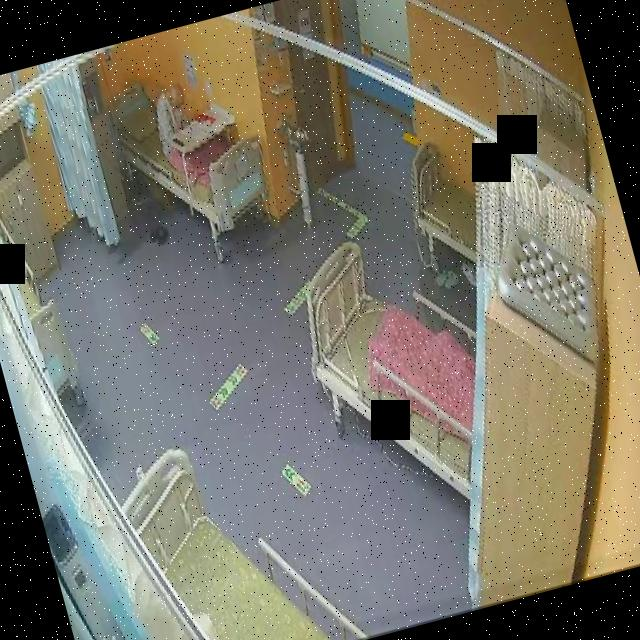bed: (284, 220, 508, 526), (109, 415, 367, 640), (98, 54, 282, 254), (397, 134, 492, 276)
patient: (144, 76, 201, 158)
sit: (146, 79, 200, 160)
